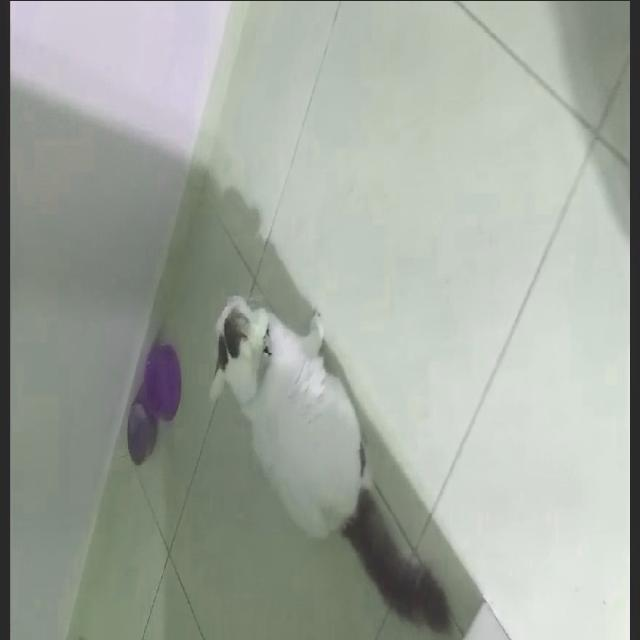Simba: (181, 227, 505, 640)
